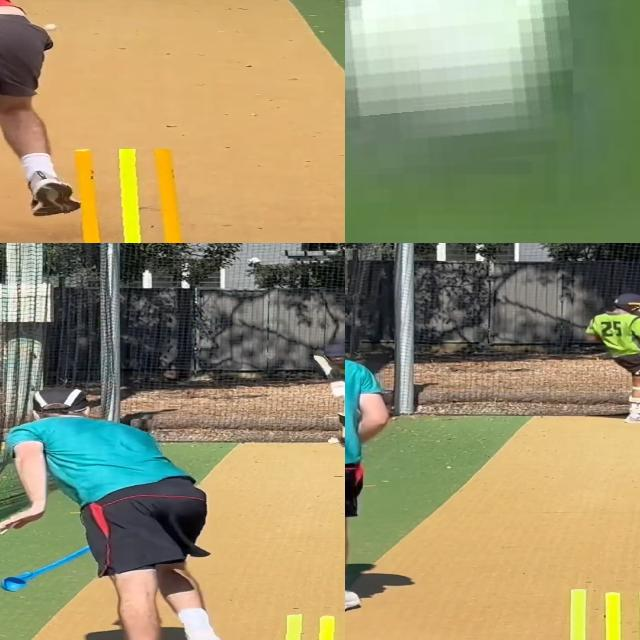Cricket ball: (345, 0, 573, 176), (325, 437, 341, 446), (44, 24, 59, 32)
Stumps: (57, 149, 189, 243)
